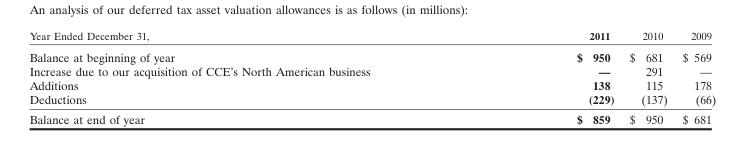table: (28, 28, 715, 125)
table column: (28, 28, 472, 125), (472, 28, 621, 125), (621, 28, 674, 125), (674, 28, 715, 125)
table column header: (28, 28, 715, 45)
table row: (28, 45, 715, 63), (28, 28, 715, 45), (28, 92, 715, 109), (28, 109, 715, 125), (28, 63, 715, 78), (28, 78, 715, 92)
